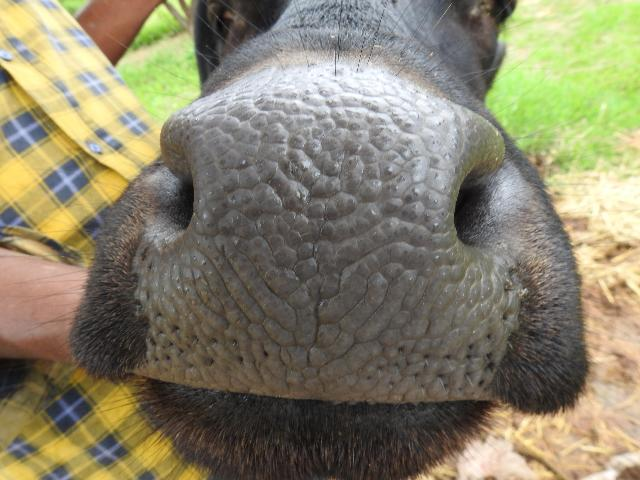Muzzle: (157, 84, 513, 404)
